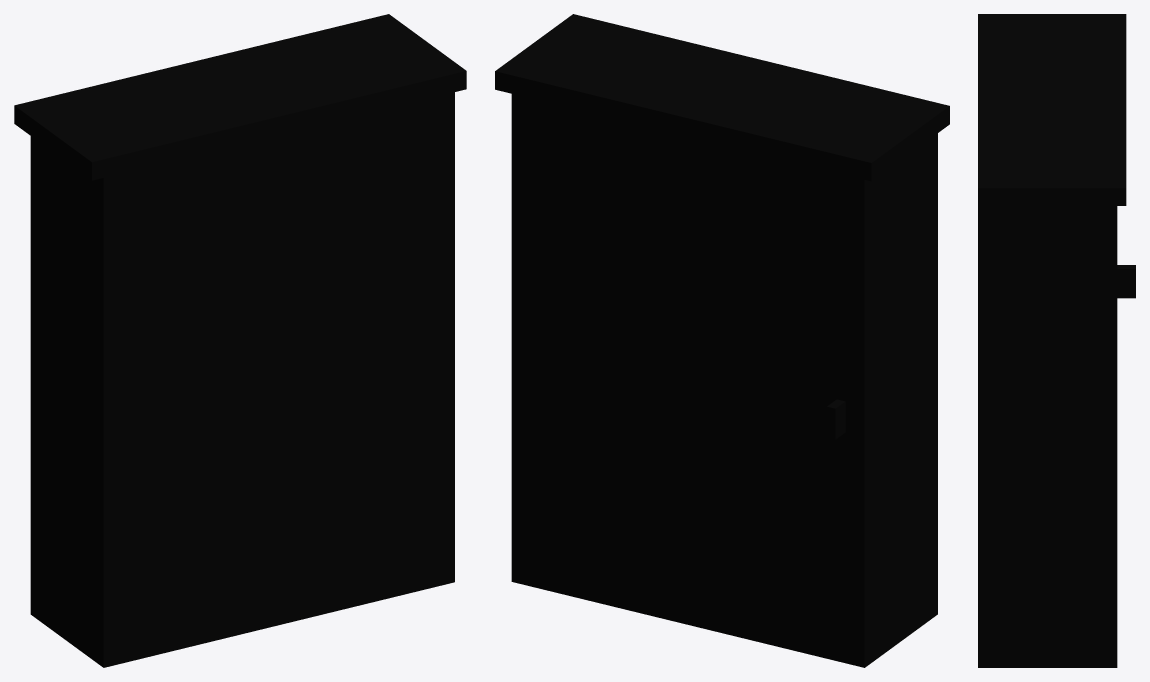
Rendered from SM_apothecary_cabinet.fbx.
3 views of the same model, side by side, from view 1: azimuth 30°, elevation 25°; view 2: azimuth 150°, elevation 25°; view 3: azimuth 270°, elevation 25° (orthographic). The views are drawn at different scales.
Visible parts, largest first — view 1: apothecary_cabinet, apothecary_cabinet_door; view 2: apothecary_cabinet_door, apothecary_cabinet; view 3: apothecary_cabinet, apothecary_cabinet_door.
Part boxes in pixels (<box>): apothecary_cabinet: <box>14,14,466,667</box>; apothecary_cabinet_door: <box>30,136,35,617</box>; apothecary_cabinet_door: <box>511,94,870,667</box>; apothecary_cabinet: <box>495,14,949,663</box>; apothecary_cabinet: <box>978,14,1126,667</box>; apothecary_cabinet_door: <box>1107,206,1135,667</box>.
Size of the model in its own units: 0.64 by 0.83 by 0.245.
